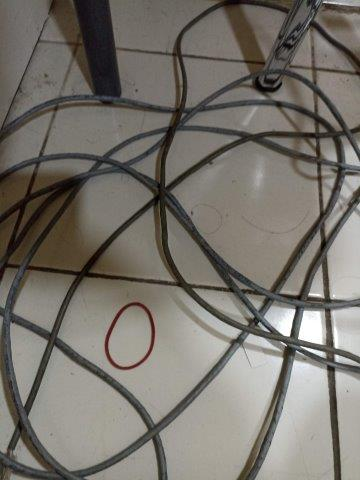karet: (104, 302, 156, 371)
